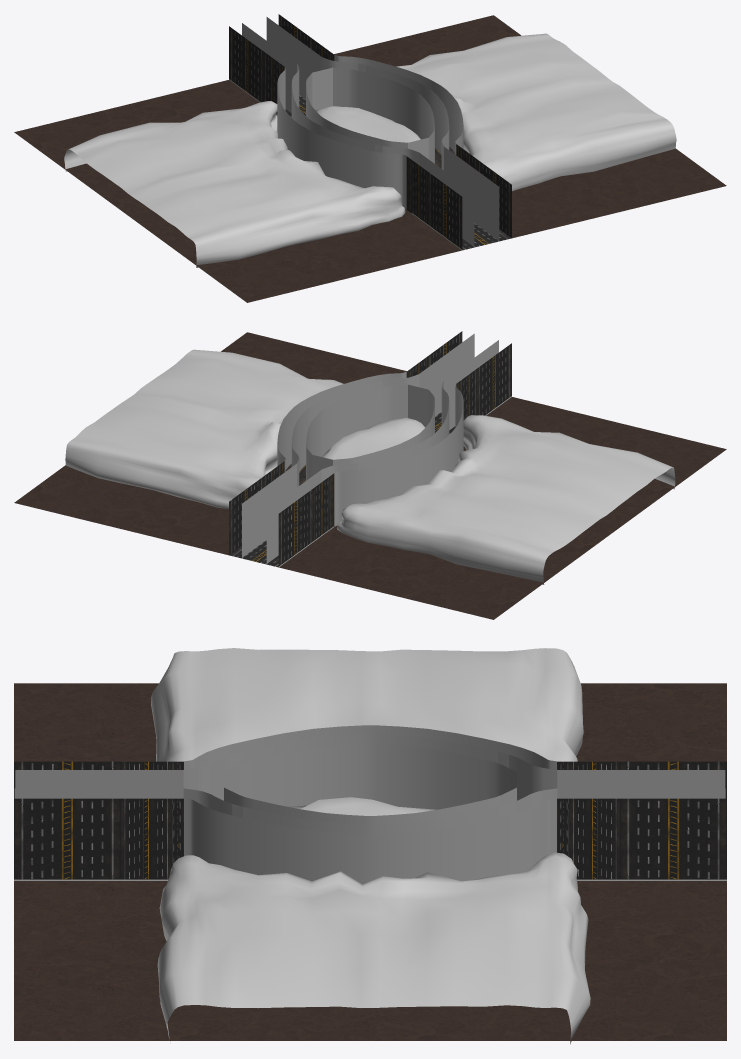
File: Track_D.fbx
The picture shows the model from 3 angles, top to bottom: view 1: azimuth 30°, elevation 25°; view 2: azimuth 150°, elevation 25°; view 3: azimuth 270°, elevation 25°; orthographic projection. The views are drawn at different scales.
Parts seen in each view (by area): view 1: Canyon_Outer_D, Sand_D, Wall_D, AI_R_D, AI_L_D, Canyon_Middle_D, Road_D; view 2: Canyon_Outer_D, Sand_D, Wall_D, AI_R_D, AI_L_D, Canyon_Middle_D, Road_D; view 3: Canyon_Outer_D, Sand_D, Wall_D, AI_L_D, AI_R_D, Canyon_Middle_D.
Boxes of the visible parts, bbox=[...] form: Canyon_Outer_D: bbox=[64, 33, 676, 267]; Sand_D: bbox=[14, 15, 726, 302]; Wall_D: bbox=[229, 14, 511, 249]; AI_R_D: bbox=[266, 17, 499, 240]; AI_L_D: bbox=[242, 23, 474, 246]; Canyon_Middle_D: bbox=[315, 106, 420, 142]; Road_D: bbox=[285, 95, 511, 250]; Canyon_Outer_D: bbox=[65, 349, 675, 584]; Sand_D: bbox=[14, 332, 726, 619]; Wall_D: bbox=[229, 331, 511, 566]; AI_R_D: bbox=[242, 333, 474, 557]; AI_L_D: bbox=[266, 340, 498, 563]; Canyon_Middle_D: bbox=[322, 417, 425, 459]; Road_D: bbox=[229, 412, 455, 567]; Canyon_Outer_D: bbox=[150, 648, 590, 1044]; Sand_D: bbox=[14, 683, 726, 1040]; Wall_D: bbox=[14, 725, 726, 884]; AI_L_D: bbox=[15, 734, 725, 800]; AI_R_D: bbox=[14, 788, 725, 834]; Canyon_Middle_D: bbox=[288, 797, 436, 815].
Bounding box in the file's own units: 169 × 19.61 × 142.
